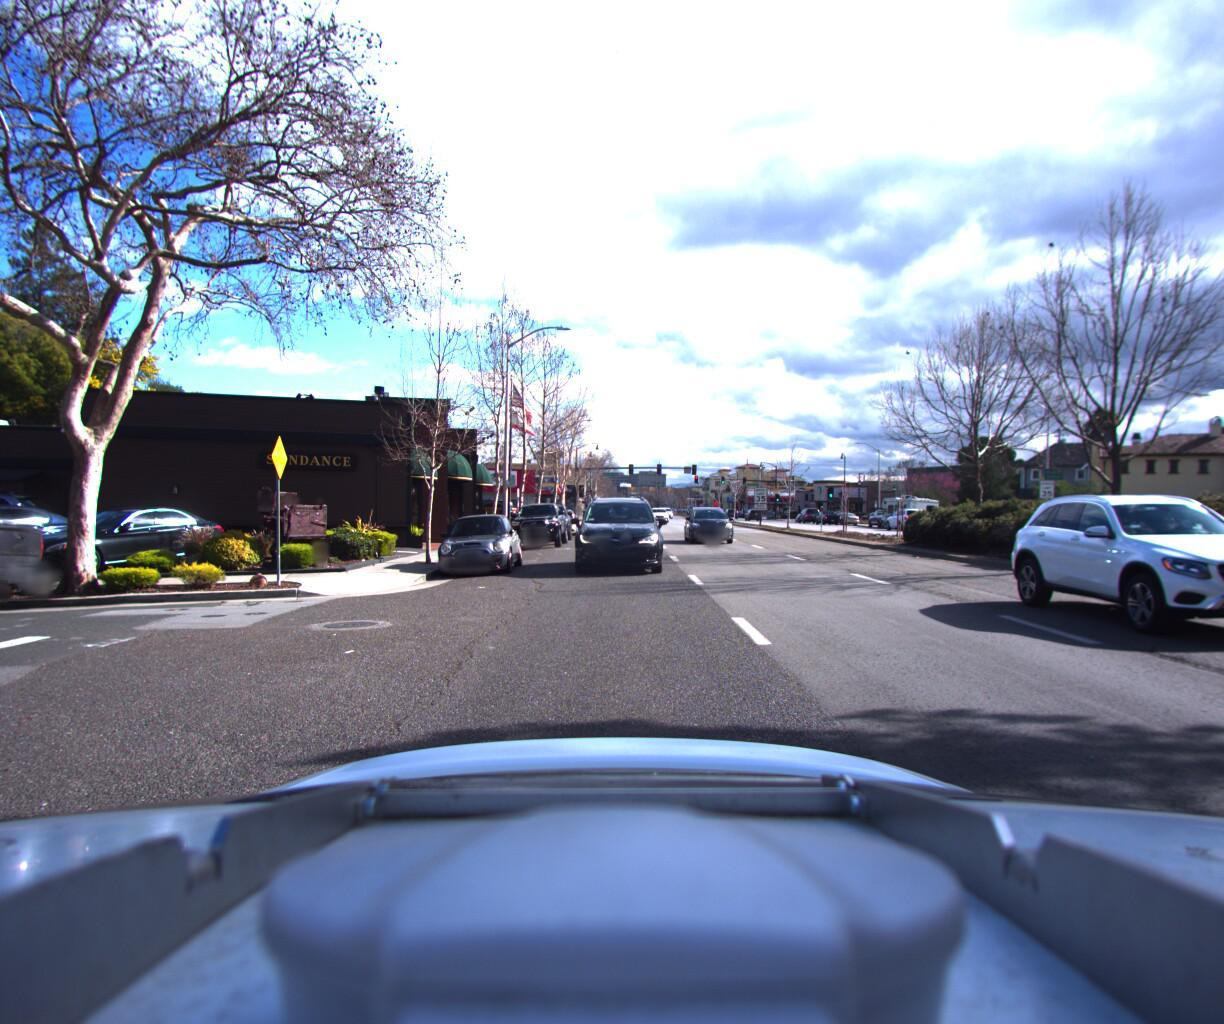car: (1058, 489, 1224, 679), (0, 502, 241, 579), (0, 482, 61, 640), (0, 498, 106, 581), (578, 490, 665, 574), (436, 508, 523, 575), (507, 498, 568, 550), (684, 500, 740, 546), (530, 500, 573, 540), (879, 505, 928, 531), (865, 505, 902, 526), (815, 506, 844, 522), (648, 501, 669, 521)
other_vehicle: (876, 489, 940, 529)
